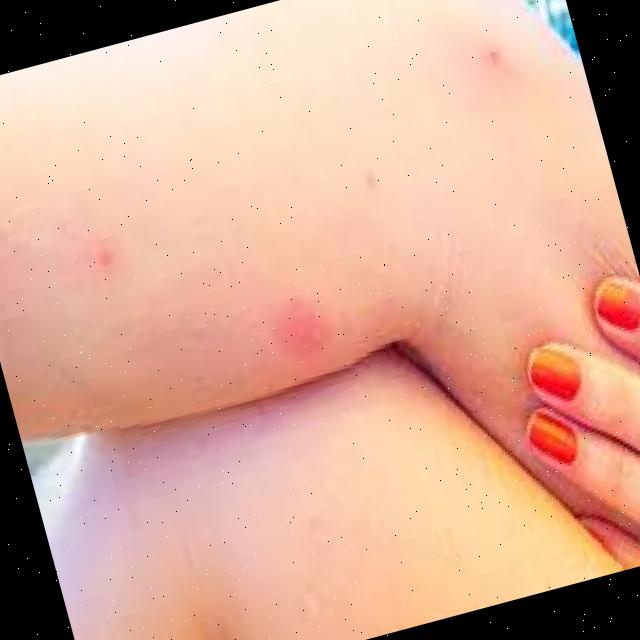kan emici bocekler: (268, 297, 330, 366), (469, 45, 506, 74), (96, 242, 115, 265)
